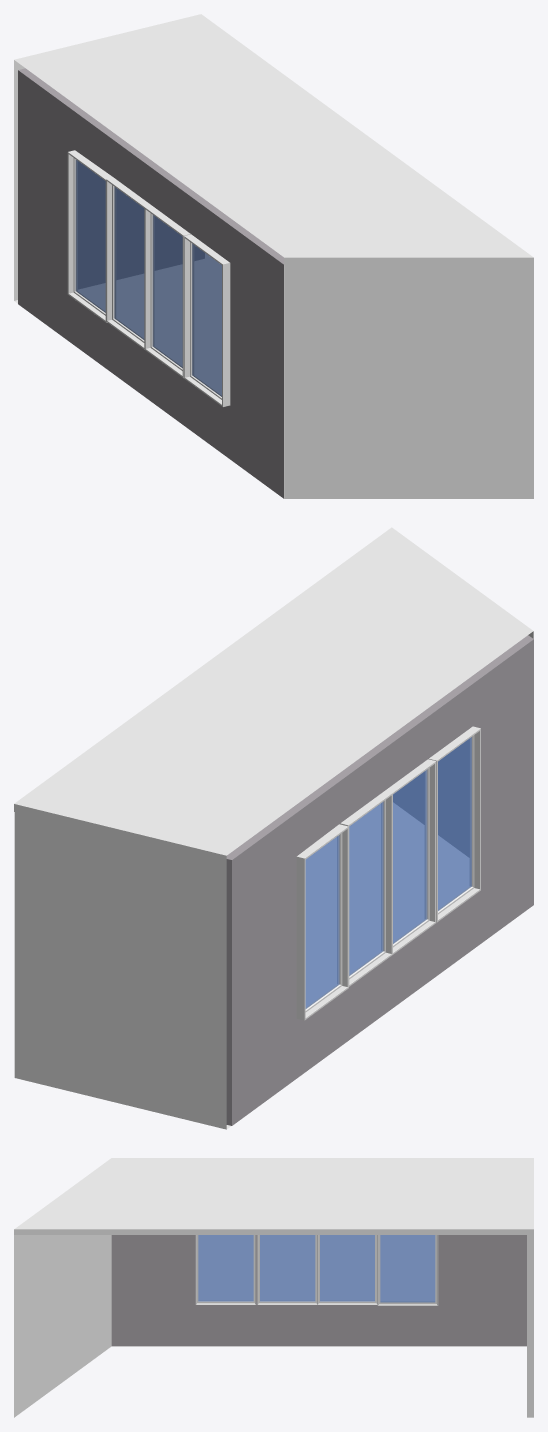
The model's file is Window.fbx.
The picture shows the model from 3 angles, top to bottom: view 1: azimuth 30°, elevation 25°; view 2: azimuth 150°, elevation 25°; view 3: azimuth 270°, elevation 25°; orthographic projection. The views are drawn at different scales.
Parts seen in each view (by area): view 1: Layer0_001, Aluminum-Clad Wood Fixed Window_001, Aluminum-Clad Wood Fixed Window_002, Aluminum-Clad Wood Fixed Window_004, Aluminum-Clad Wood Fixed Window_003; view 2: Layer0_001, Aluminum-Clad Wood Fixed Window_004, Aluminum-Clad Wood Fixed Window_001, Aluminum-Clad Wood Fixed Window_002, Aluminum-Clad Wood Fixed Window_003; view 3: Layer0_001, Aluminum-Clad Wood Fixed Window_004, Aluminum-Clad Wood Fixed Window_001, Aluminum-Clad Wood Fixed Window_003, Aluminum-Clad Wood Fixed Window_002.
Part boxes in pixels (x1,y1,x2,y2): Layer0_001: [14, 14, 533, 498]; Aluminum-Clad Wood Fixed Window_001: [184, 234, 230, 406]; Aluminum-Clad Wood Fixed Window_002: [144, 205, 190, 378]; Aluminum-Clad Wood Fixed Window_004: [67, 150, 112, 322]; Aluminum-Clad Wood Fixed Window_003: [106, 177, 151, 349]; Layer0_001: [14, 527, 533, 1129]; Aluminum-Clad Wood Fixed Window_004: [296, 824, 348, 1020]; Aluminum-Clad Wood Fixed Window_001: [429, 726, 480, 922]; Aluminum-Clad Wood Fixed Window_002: [385, 759, 436, 954]; Aluminum-Clad Wood Fixed Window_003: [339, 791, 392, 986]; Layer0_001: [14, 1158, 533, 1417]; Aluminum-Clad Wood Fixed Window_004: [377, 1235, 438, 1305]; Aluminum-Clad Wood Fixed Window_001: [195, 1235, 256, 1304]; Aluminum-Clad Wood Fixed Window_003: [317, 1235, 377, 1304]; Aluminum-Clad Wood Fixed Window_002: [257, 1235, 317, 1304].
Bounding box in the file's own units: 81.12 × 96 × 240.
